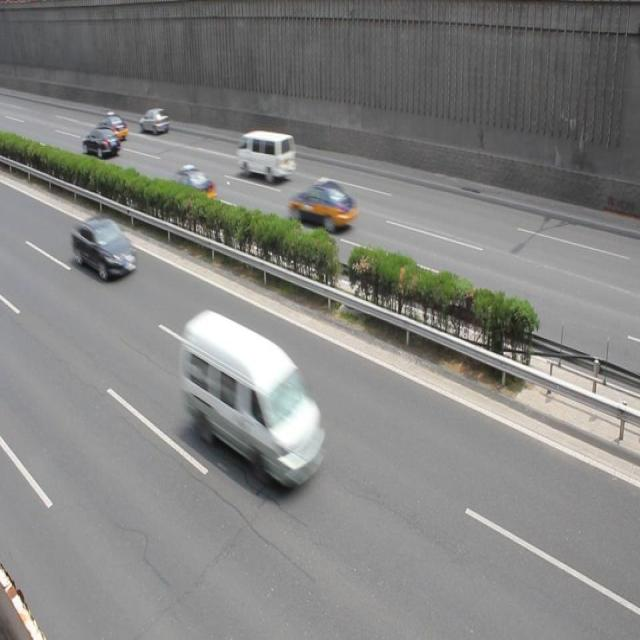car: (71, 213, 137, 282), (286, 180, 356, 232), (166, 164, 217, 210), (83, 125, 120, 158), (96, 112, 130, 142), (140, 104, 168, 133)
truck: (181, 309, 326, 491), (236, 131, 297, 185)
